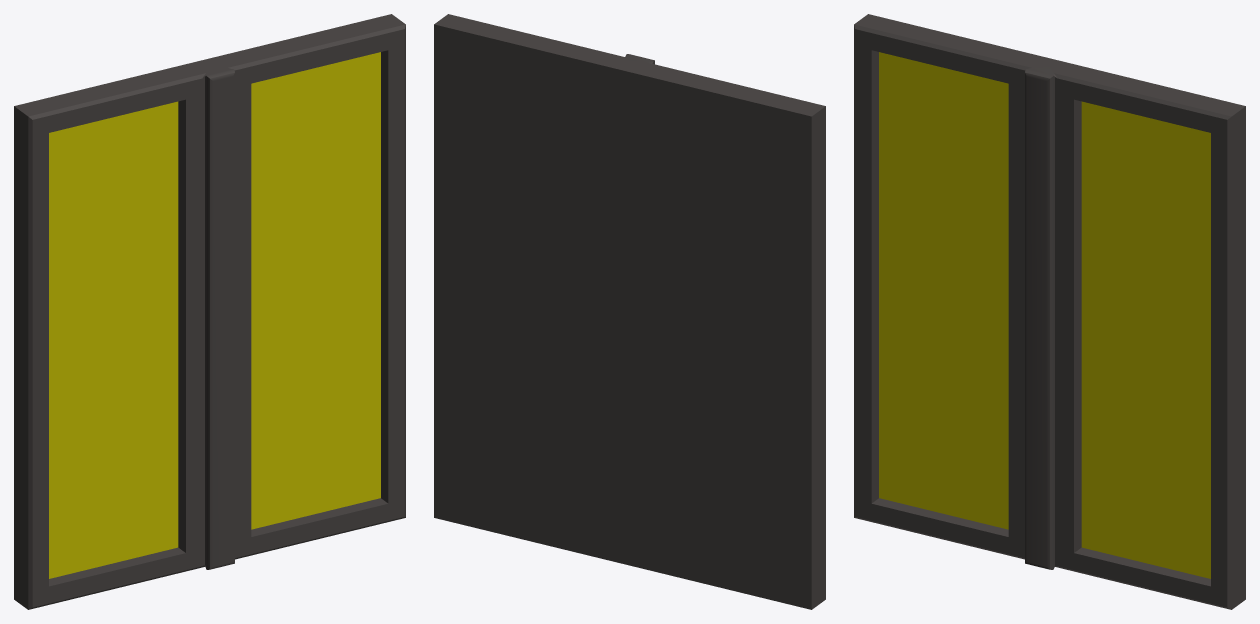
File: Hospital_Gate.fbx
The picture shows the model from 3 angles, left to right: view 1: azimuth 30°, elevation 25°; view 2: azimuth 150°, elevation 25°; view 3: azimuth 330°, elevation 25°; orthographic projection.
Parts seen in each view (by area): view 1: Hospital_Gate; view 2: Hospital_Gate; view 3: Hospital_Gate.
Part boxes in pixels (x1,y1,x2,y2): Hospital_Gate: (14, 14, 405, 609); Hospital_Gate: (434, 14, 825, 609); Hospital_Gate: (854, 14, 1245, 609).
Size of the model in its own units: 9.9 by 12.35 by 0.9197.
